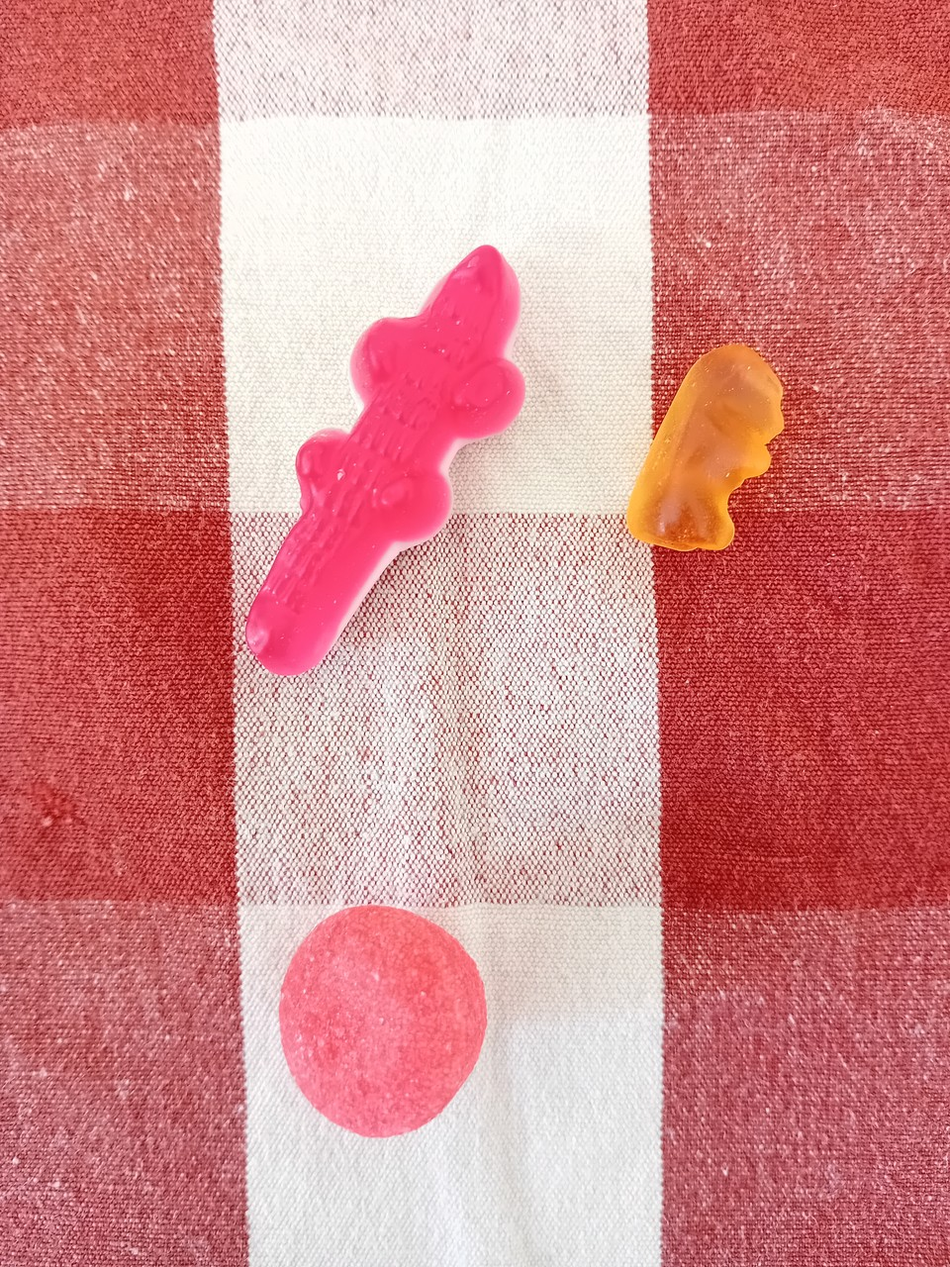crocodile_rouge: (234, 236, 547, 682)
ourson_orangeClair: (615, 333, 793, 560)
tagada_fraise: (268, 896, 506, 1148)
